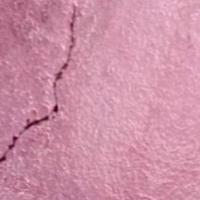crack: (0, 0, 84, 170)
